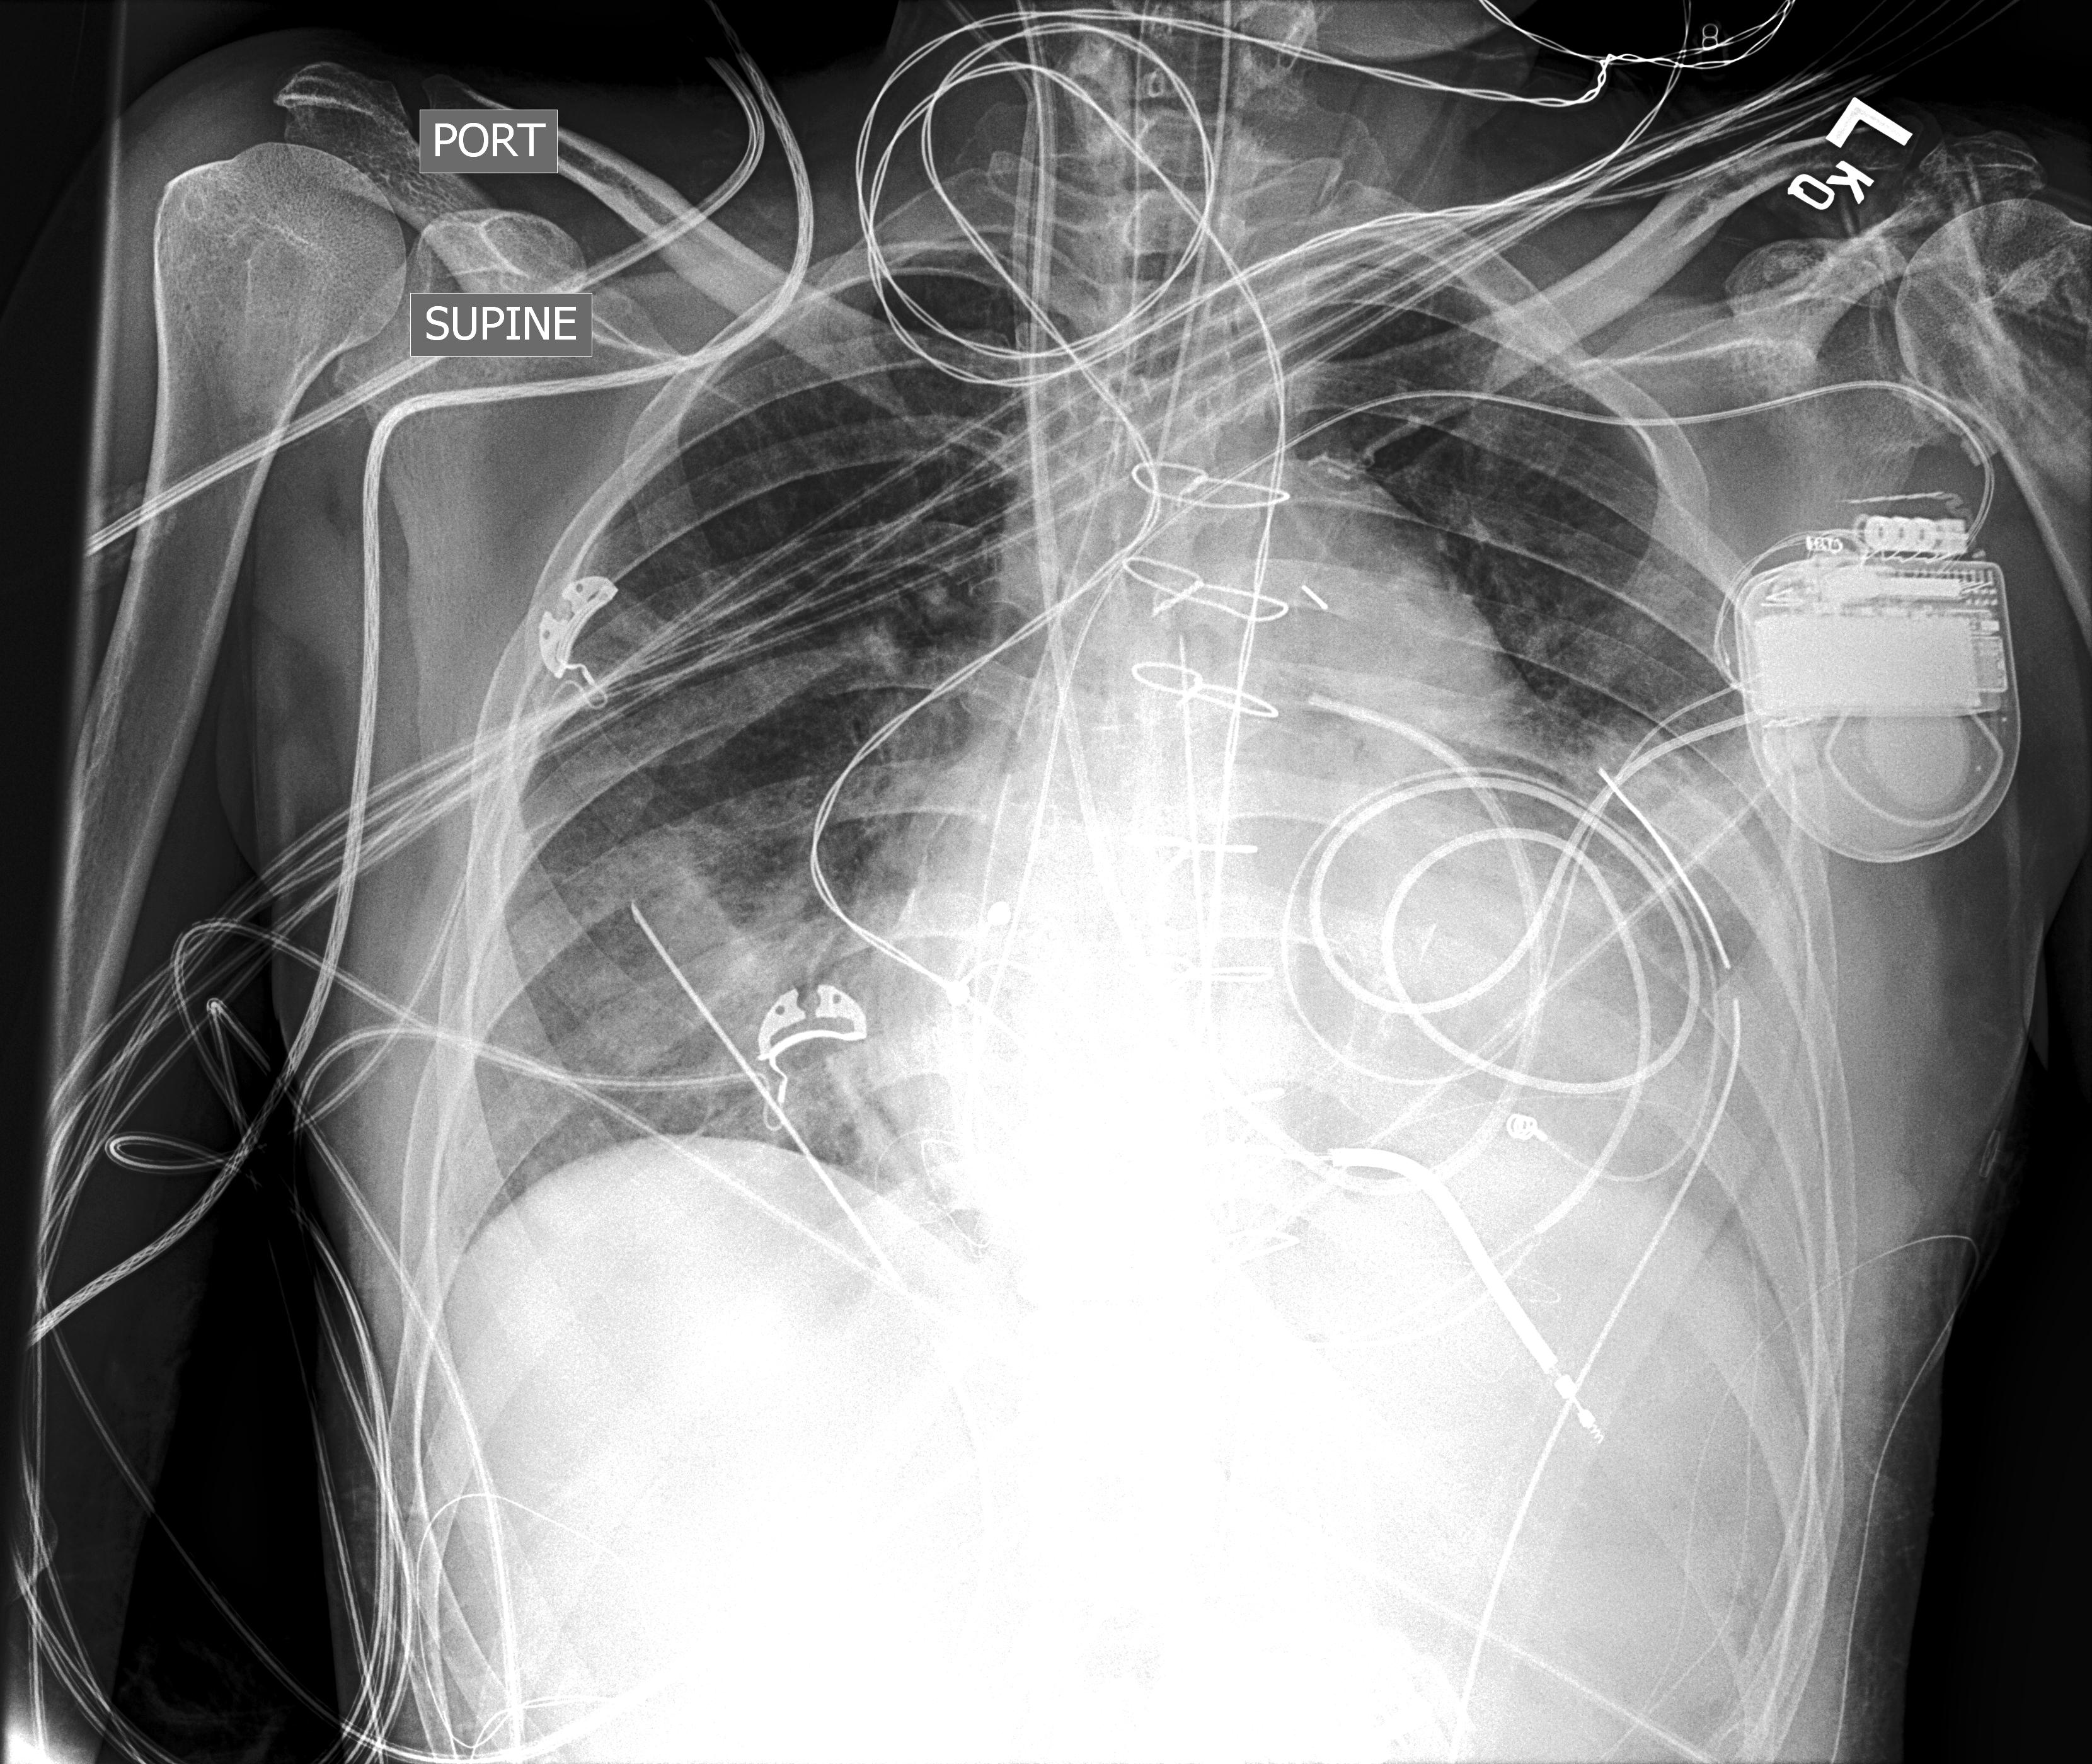Pleural Effusion: (1479, 905, 1887, 1507)
